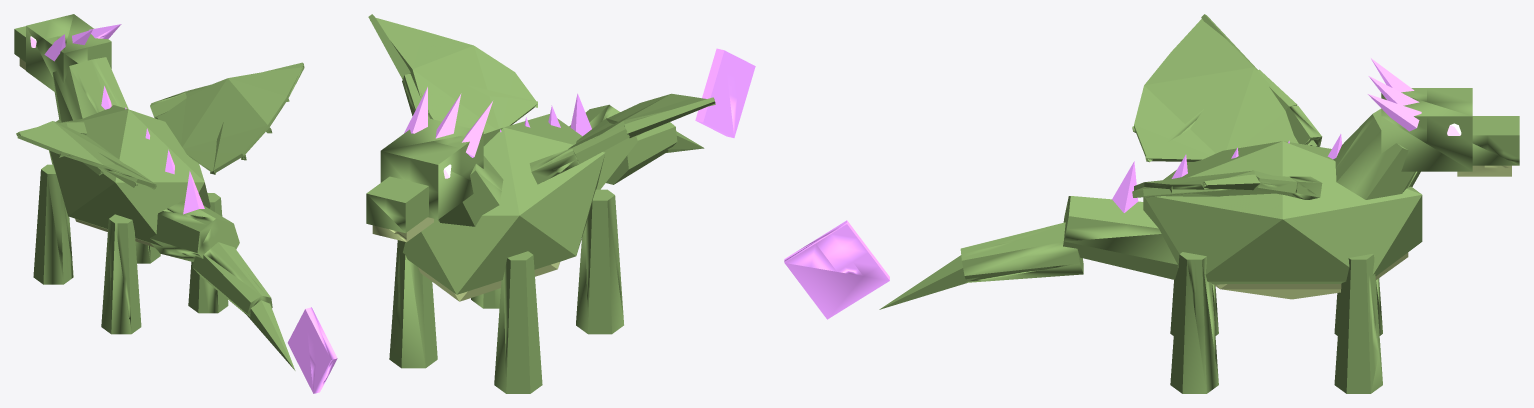
Rendered from dragon_venom.glb.
3 renders of one model, left to right at view 1: azimuth 30°, elevation 25°; view 2: azimuth 150°, elevation 25°; view 3: azimuth 270°, elevation 25°, orthographic. The views are drawn at different scales.
Parts seen in each view (by area): view 1: DragonBody; view 2: DragonBody; view 3: DragonBody.
Part boxes in pixels (box(x1,y1,x2,y2)): DragonBody: box(14, 14, 337, 393); DragonBody: box(366, 14, 755, 393); DragonBody: box(784, 14, 1519, 393).
Bounding box in the file's own units: 2.43 × 1.91 × 4.45.
